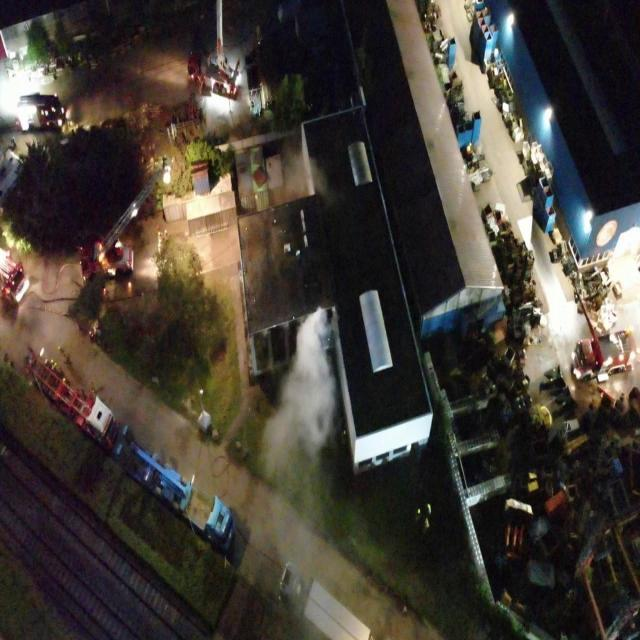Smoke: (248, 306, 336, 570), (284, 148, 330, 202)
